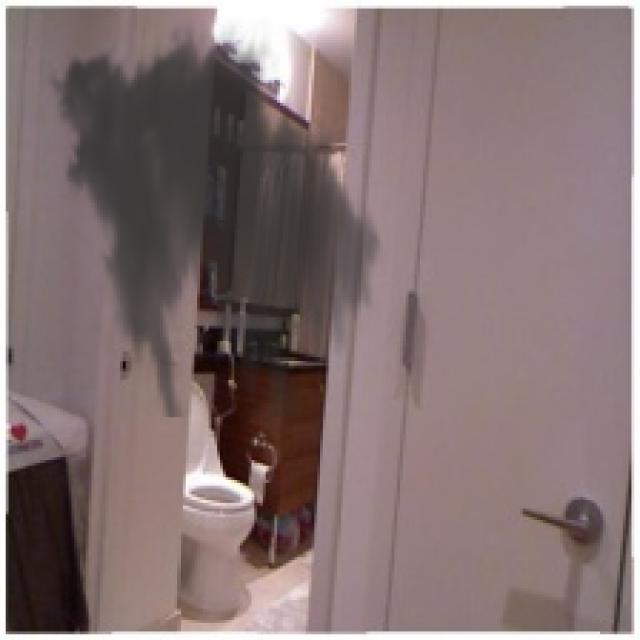smoke: (40, 17, 391, 417)
